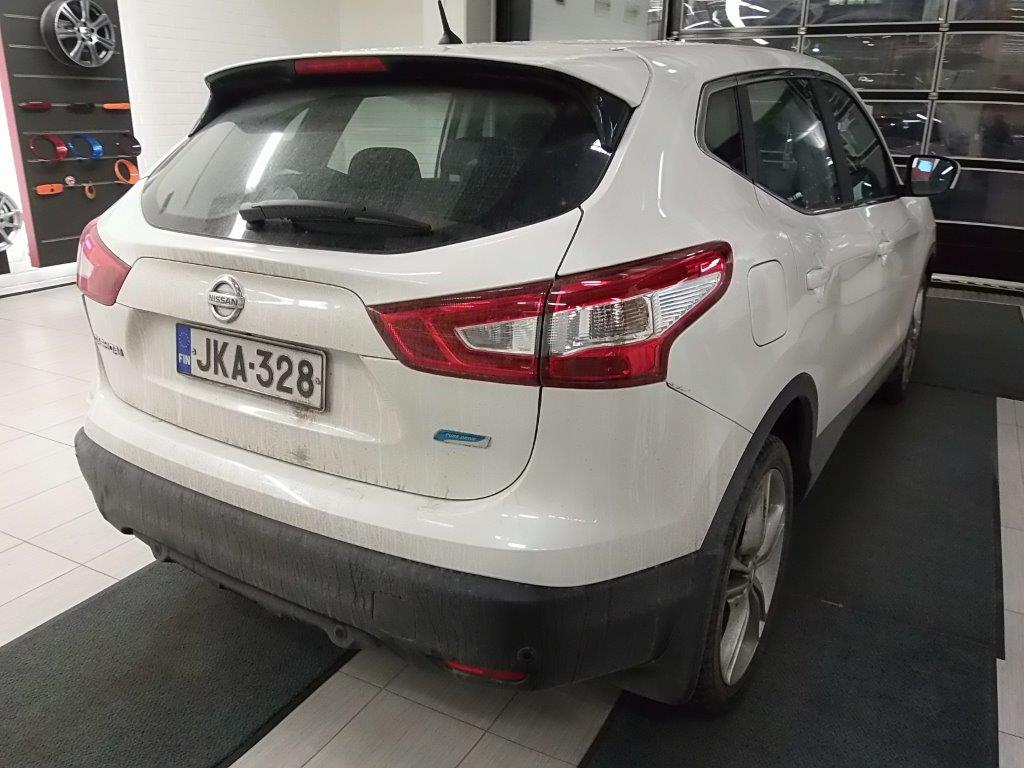license: (175, 319, 325, 415)
